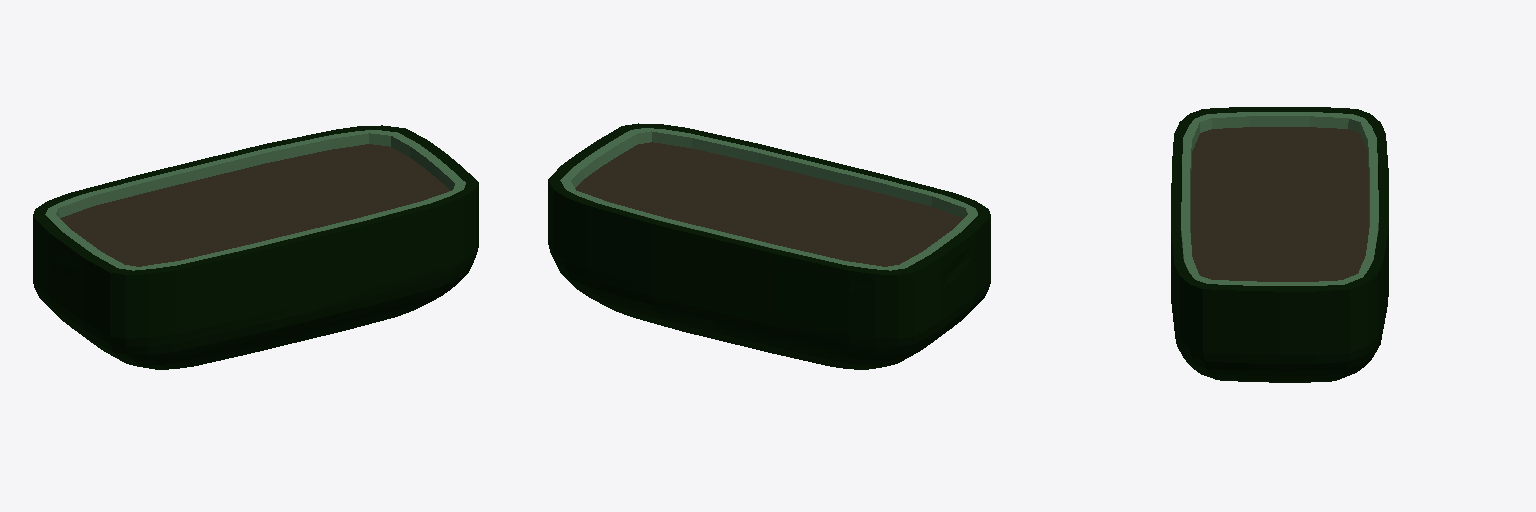
Rendered from Plant_Cell.obj.
3 renders of one model, left to right at view 1: azimuth 30°, elevation 25°; view 2: azimuth 150°, elevation 25°; view 3: azimuth 270°, elevation 25°, orthographic.
Parts seen in each view (by area): view 1: Cell_Wall Plant_Cell, Plant_Cell Cell_Goo, Plant_Cell Plant_Membrane; view 2: Cell_Wall Plant_Cell, Plant_Cell Cell_Goo, Plant_Cell Plant_Membrane; view 3: Plant_Cell Cell_Goo, Cell_Wall Plant_Cell, Plant_Cell Plant_Membrane.
Part boxes in pixels (left/top/right/bottom): Cell_Wall Plant_Cell: left=33, top=125, right=478, bottom=369; Plant_Cell Cell_Goo: left=60, top=144, right=449, bottom=266; Plant_Cell Plant_Membrane: left=45, top=130, right=465, bottom=270; Cell_Wall Plant_Cell: left=548, top=123, right=990, bottom=369; Plant_Cell Cell_Goo: left=575, top=142, right=963, bottom=266; Plant_Cell Plant_Membrane: left=560, top=128, right=977, bottom=270; Plant_Cell Cell_Goo: left=1191, top=127, right=1368, bottom=281; Cell_Wall Plant_Cell: left=1171, top=107, right=1388, bottom=382; Plant_Cell Plant_Membrane: left=1181, top=112, right=1378, bottom=285.
Size of the model in its own units: 282 by 80.9 by 140.